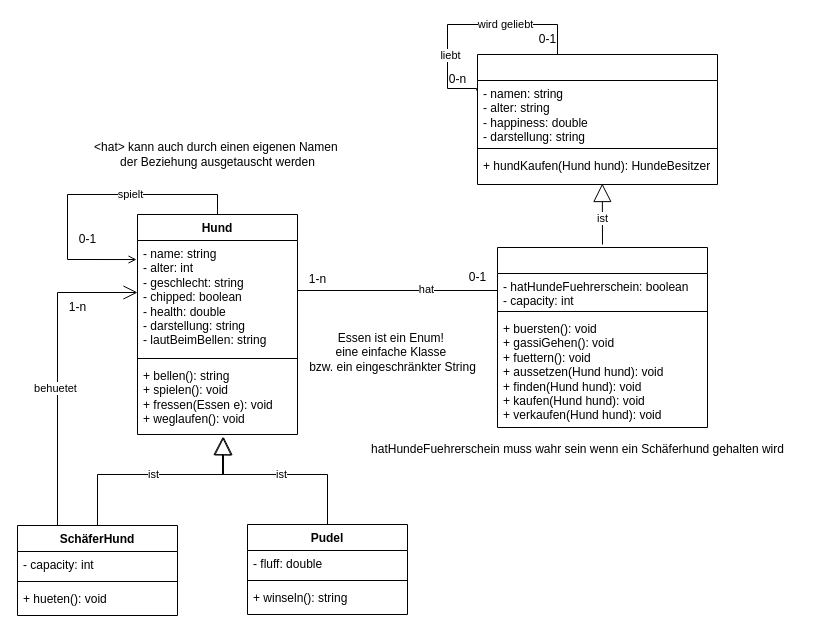
The diagram is 815 pixels wide and 635 high, and some of its shapes have lost their labels. The shapes that lost their labels are listed below. From the top down, each one's box as (x1, y1, x2, y2) in pixels, then its label:
(476, 54, 718, 184): Mensch
(496, 246, 708, 428): HundeBesitzer
